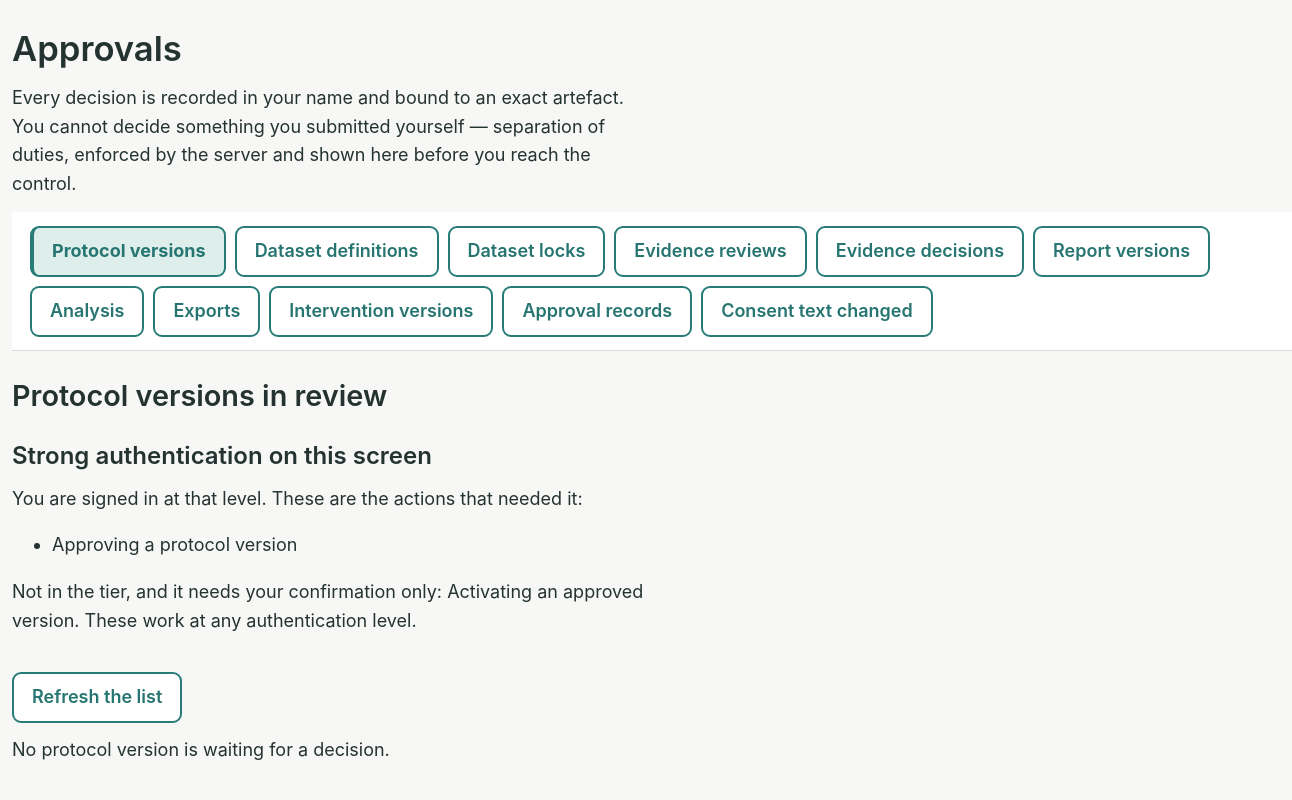
Test: staff work queues replace manual identifier entry › rejecting an export is presented with the same authority as approving it
The image size is (1292, 800).
What coordinates should you click on to do the following:
click the button "Exports"
I would click on:
 (207, 311)
Its box is [153, 286, 260, 337].
(page scrolled)
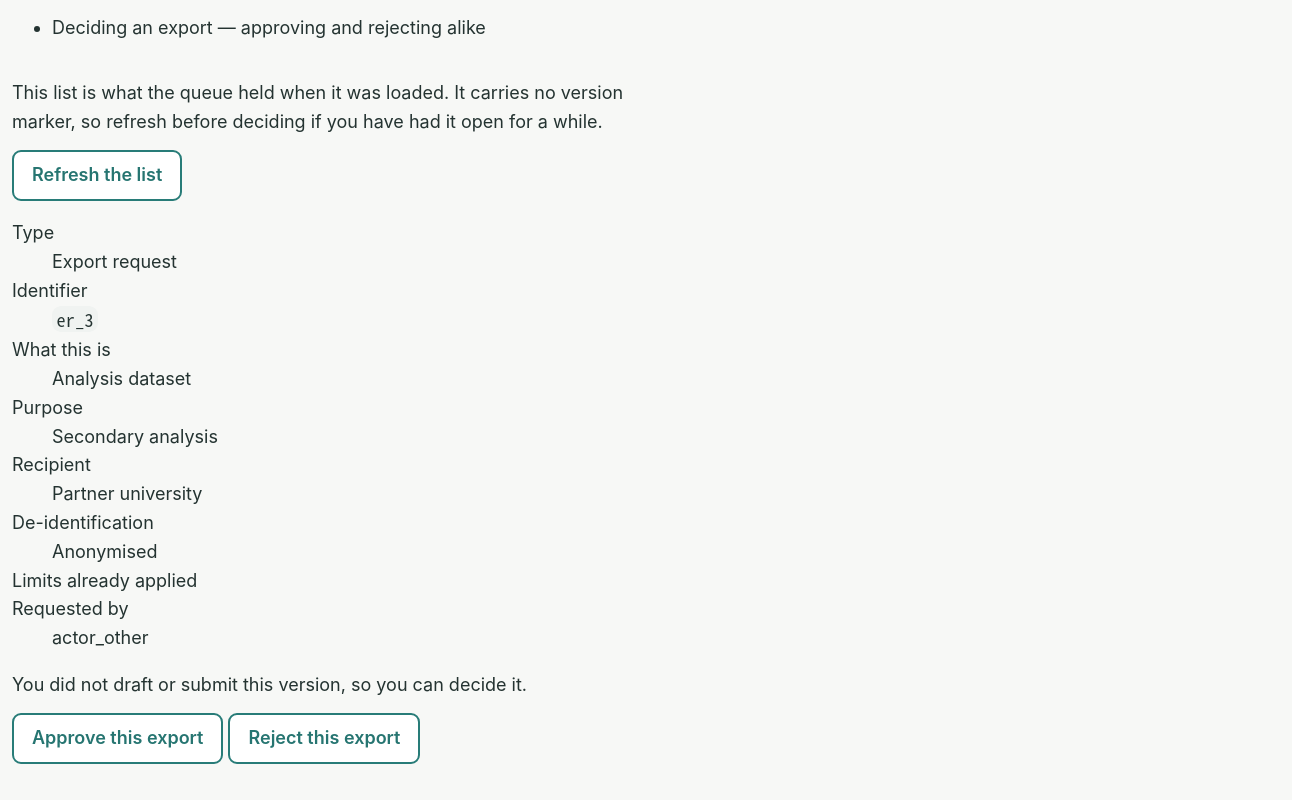
Result: the element that starts with "Strong authentication on this screen" shows "approving and rejecting alike" at [52, 17, 486, 38]
Result: the button "Reject this export" is enabled at [228, 713, 420, 764]
